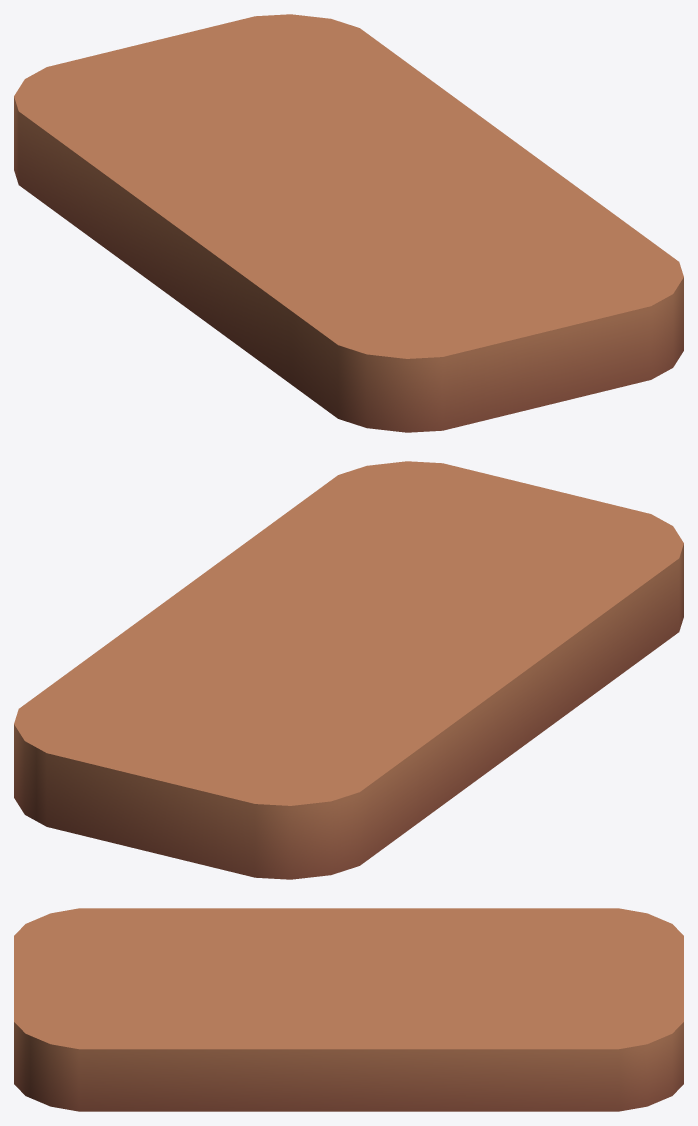
3 views of the same model, one above another, from view 1: azimuth 30°, elevation 25°; view 2: azimuth 150°, elevation 25°; view 3: azimuth 270°, elevation 25° (orthographic). The views are drawn at different scales.
Visible parts, largest first — view 1: Cube.001; view 2: Cube.001; view 3: Cube.001.
Part boxes in pixels (x1,y1,x2,y2): Cube.001: [14, 14, 683, 432]; Cube.001: [14, 461, 683, 879]; Cube.001: [14, 908, 683, 1111].
Size of the model in its own units: 2 by 0.4131 by 4.02.
1 material, 1 textured.
